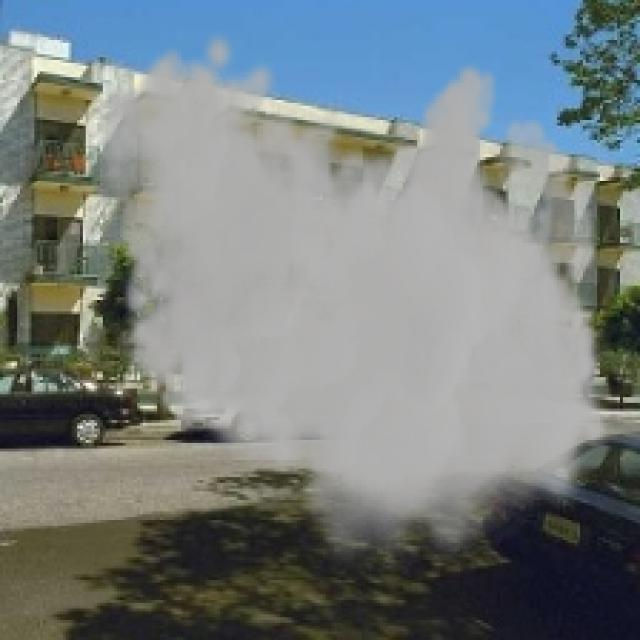Smoke: (97, 28, 614, 574)
